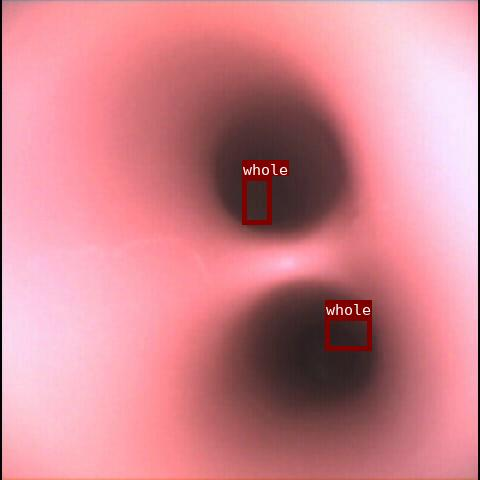whole: (325, 316, 371, 350), (242, 176, 271, 224)
